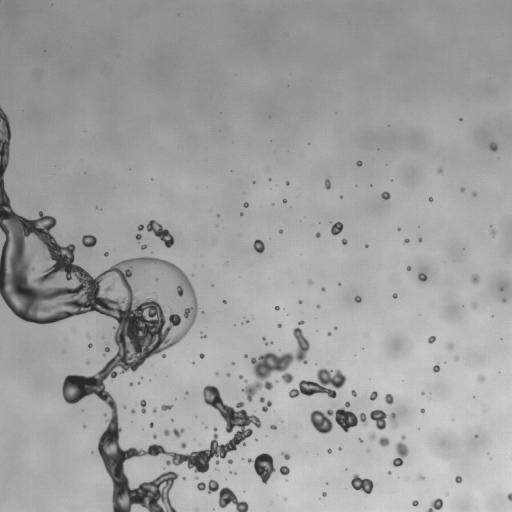droplet: (248, 453, 275, 484), (370, 409, 397, 429), (351, 474, 373, 494), (426, 498, 443, 511), (81, 235, 96, 247), (259, 397, 271, 411), (331, 222, 343, 235), (253, 239, 264, 253), (378, 436, 390, 447), (172, 428, 184, 437), (384, 394, 393, 404), (279, 466, 289, 475), (489, 142, 497, 151), (381, 191, 390, 199), (418, 273, 427, 281), (471, 274, 479, 283), (324, 178, 330, 189), (281, 452, 289, 460), (370, 391, 377, 400), (445, 342, 453, 349), (433, 364, 440, 372), (477, 374, 484, 382), (368, 432, 375, 440), (428, 336, 435, 343), (354, 296, 361, 302), (455, 476, 461, 483), (163, 429, 169, 435), (412, 500, 418, 506), (136, 234, 141, 241), (356, 161, 362, 166), (342, 238, 347, 244), (471, 303, 477, 308), (351, 390, 356, 396), (181, 442, 186, 448), (437, 168, 442, 173), (243, 202, 248, 207), (315, 232, 320, 237), (404, 238, 409, 243), (141, 244, 146, 249), (201, 333, 206, 338), (199, 353, 204, 358), (227, 459, 232, 464), (491, 230, 495, 236), (270, 425, 276, 429), (418, 475, 424, 479), (428, 197, 433, 201), (278, 229, 283, 233), (406, 266, 411, 270), (393, 293, 397, 298), (149, 422, 153, 427), (285, 181, 289, 185), (460, 187, 464, 191), (472, 192, 476, 196), (418, 237, 422, 241), (104, 252, 108, 256), (321, 287, 325, 291), (502, 298, 506, 302), (275, 306, 279, 310), (277, 323, 281, 327), (88, 343, 92, 347), (454, 356, 458, 360), (226, 372, 230, 376), (131, 409, 135, 413), (420, 408, 424, 412), (327, 449, 331, 453), (322, 492, 326, 496), (299, 321, 304, 324), (283, 198, 286, 202), (308, 280, 311, 284), (421, 391, 424, 395), (153, 408, 156, 412), (82, 425, 86, 428), (397, 227, 400, 230), (223, 300, 226, 303), (316, 305, 319, 308), (334, 326, 337, 329), (86, 361, 89, 364), (123, 405, 126, 408), (359, 438, 362, 441), (338, 447, 341, 450), (388, 471, 391, 474), (459, 118, 462, 120), (268, 178, 271, 180), (299, 300, 301, 303), (328, 332, 330, 335), (244, 355, 247, 357), (231, 362, 234, 364), (215, 372, 217, 375), (129, 383, 132, 385), (153, 435, 156, 437), (475, 435, 478, 437), (195, 476, 197, 479), (194, 509, 197, 511), (340, 196, 342, 198), (217, 215, 219, 217), (365, 245, 367, 247), (338, 283, 340, 285), (87, 335, 89, 337), (276, 380, 278, 382), (255, 438, 257, 440), (215, 468, 217, 470), (230, 471, 232, 473), (406, 478, 408, 480), (284, 498, 286, 500)
ligament: (0, 106, 260, 511), (239, 327, 309, 401), (310, 402, 367, 433), (289, 368, 346, 398), (197, 480, 248, 511), (138, 220, 174, 247), (392, 435, 408, 467), (103, 343, 109, 356), (140, 400, 146, 413), (262, 337, 273, 344), (161, 405, 172, 410), (507, 492, 511, 501)
